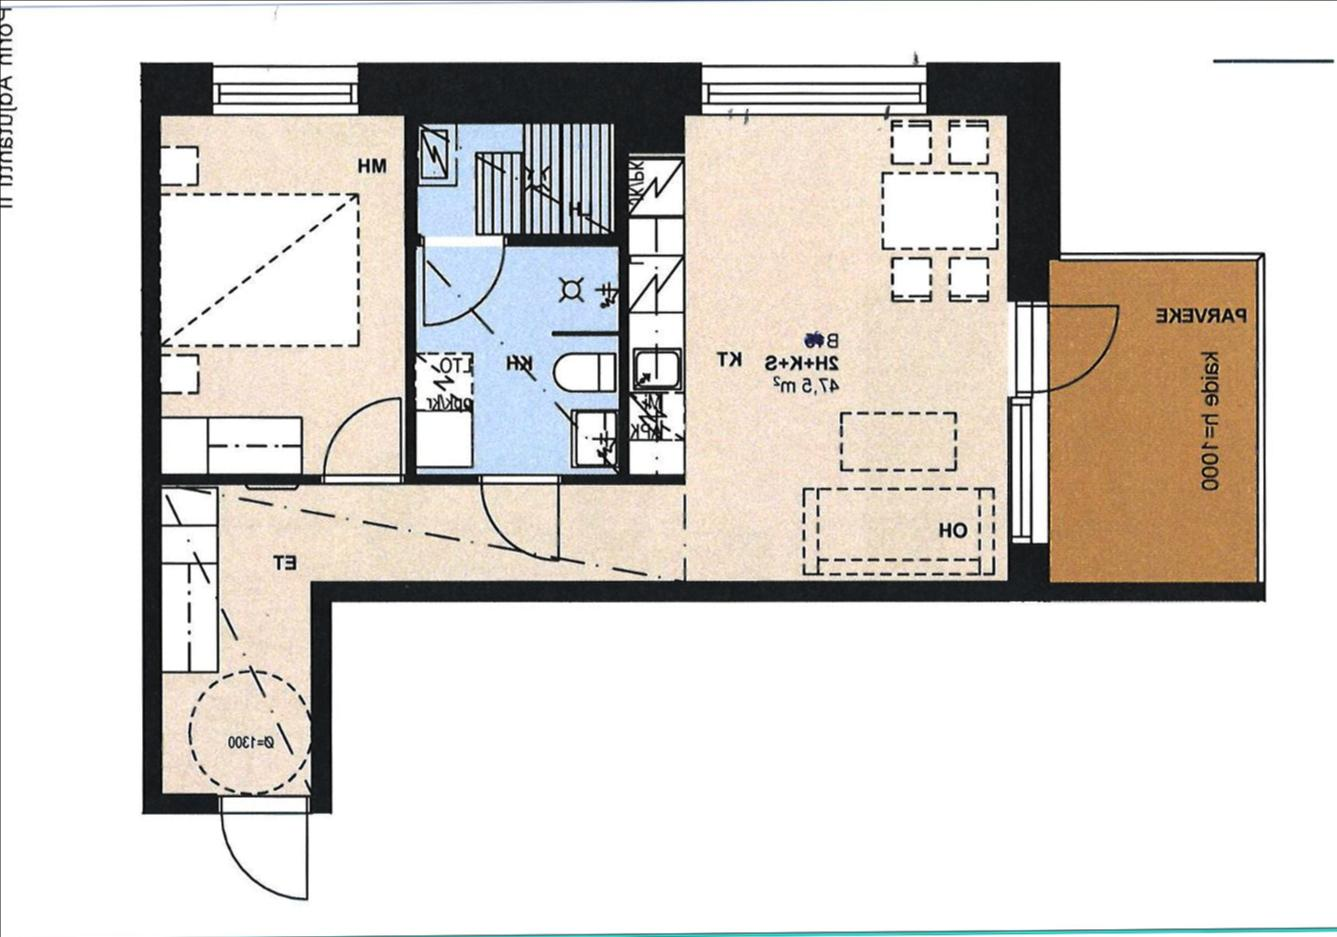bathroom: (413, 247, 619, 476)
door: (211, 793, 313, 909), (1010, 298, 1125, 397), (474, 472, 564, 561), (319, 391, 402, 486)
perimeter: (143, 63, 1058, 814)
window: (690, 59, 936, 118), (200, 57, 368, 120), (1001, 393, 1060, 552)
